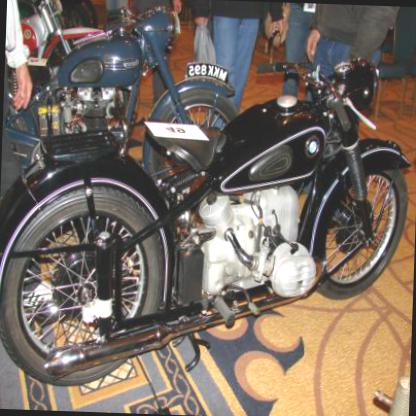motorcycle: (3, 0, 406, 395), (2, 0, 246, 186), (5, 0, 134, 117)
